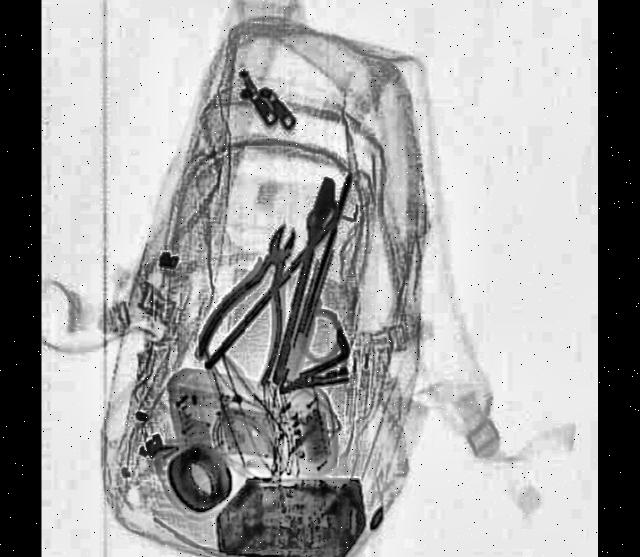Pliers: (192, 200, 325, 398)
